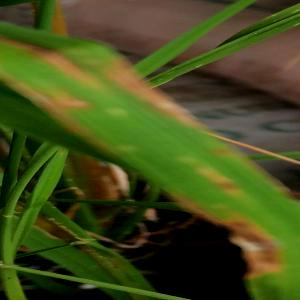1 RiceBlast: (103, 49, 202, 129), (217, 210, 280, 279), (47, 89, 93, 114)
